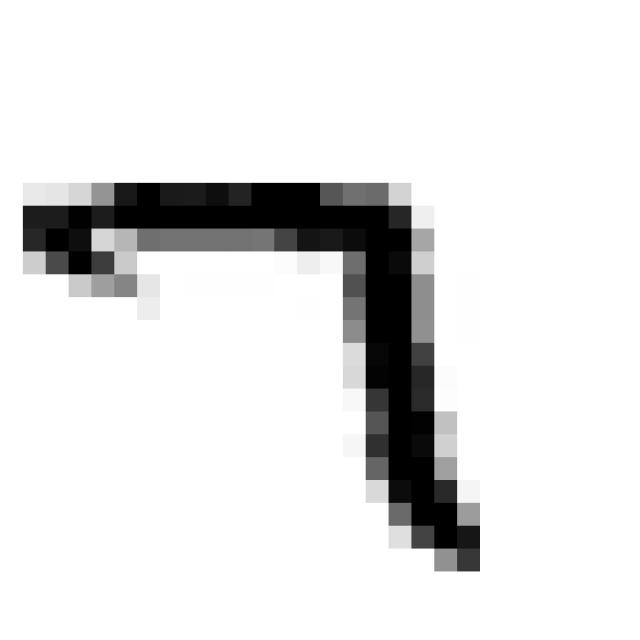6 -six-: (7, 162, 500, 592)
